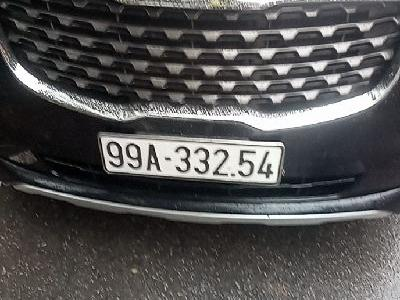lisence: (97, 131, 286, 188)
